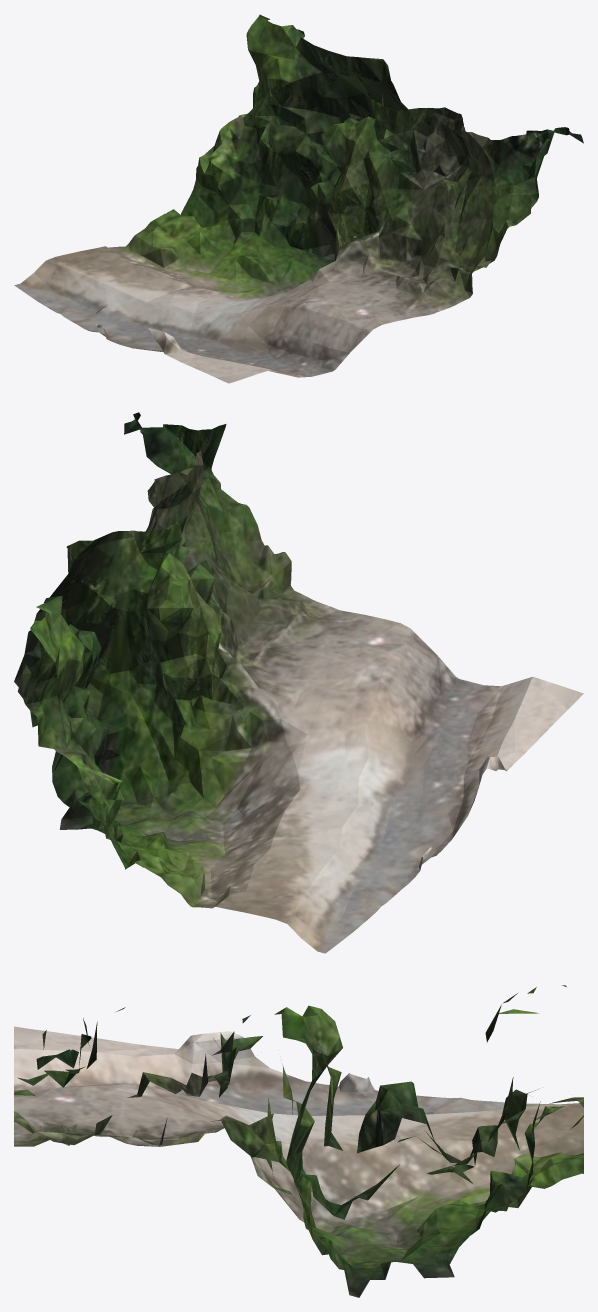
3 views of the same model, one above another, from view 1: azimuth 30°, elevation 25°; view 2: azimuth 150°, elevation 25°; view 3: azimuth 270°, elevation 25° (orthographic). The views are drawn at different scales.
Bounding box in the file's own units: 25.51 × 14.48 × 26.11.
Materials: 3 (3 with a texture image).
